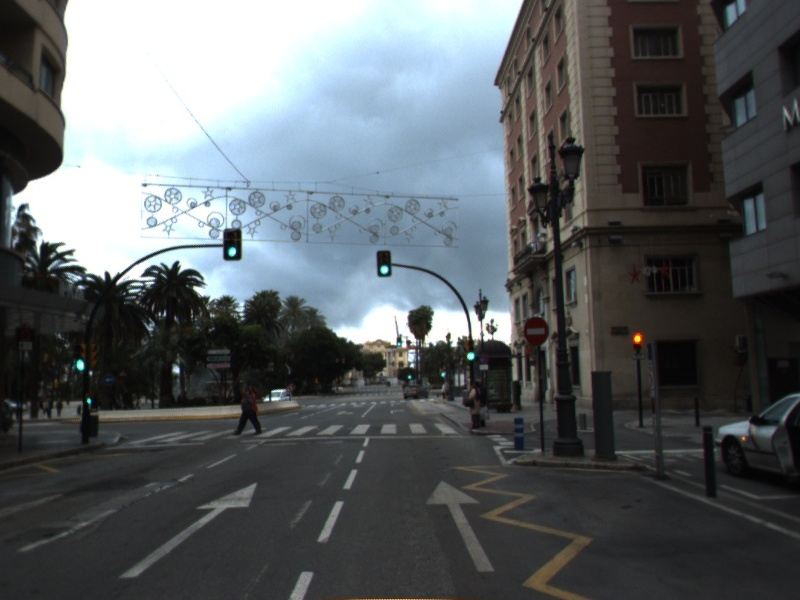STRAIGHT: (117, 480, 260, 581), (423, 478, 498, 574)
